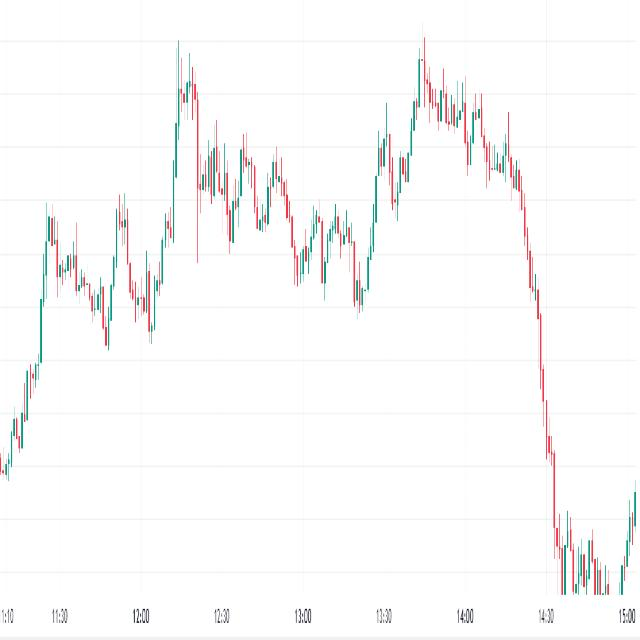Head-Shoulders: (150, 38, 234, 342)
